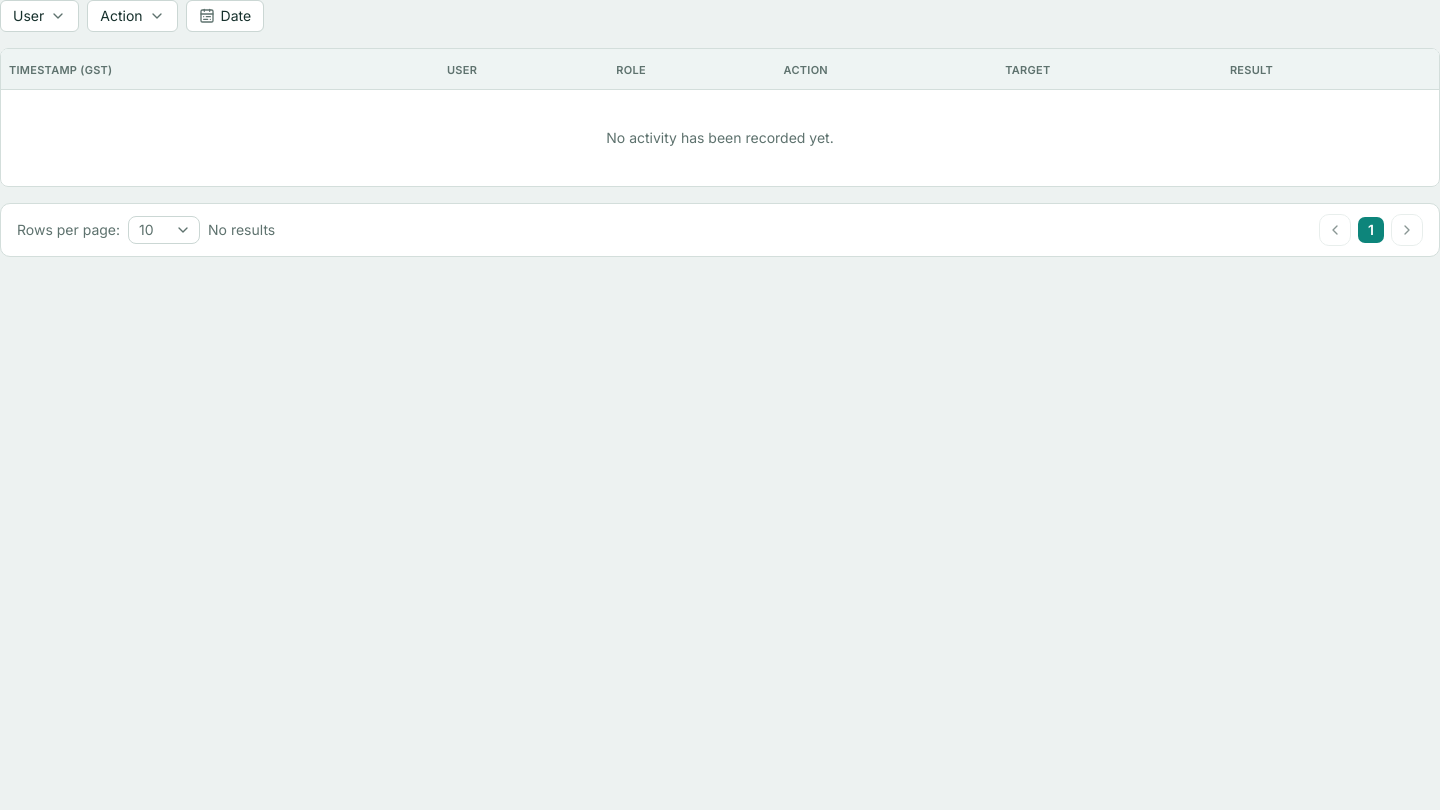
AuditTable › distinguishes a filtered empty result from an empty log
Expected: the text "No activity has been recorded yet." is shown, [1, 90, 1439, 186]
Note: The two date fields live behind the single "Date" chip.
Click the button with aria-label "Filter by date". click: {"x": 225, "y": 16}
box: [186, 0, 264, 32]
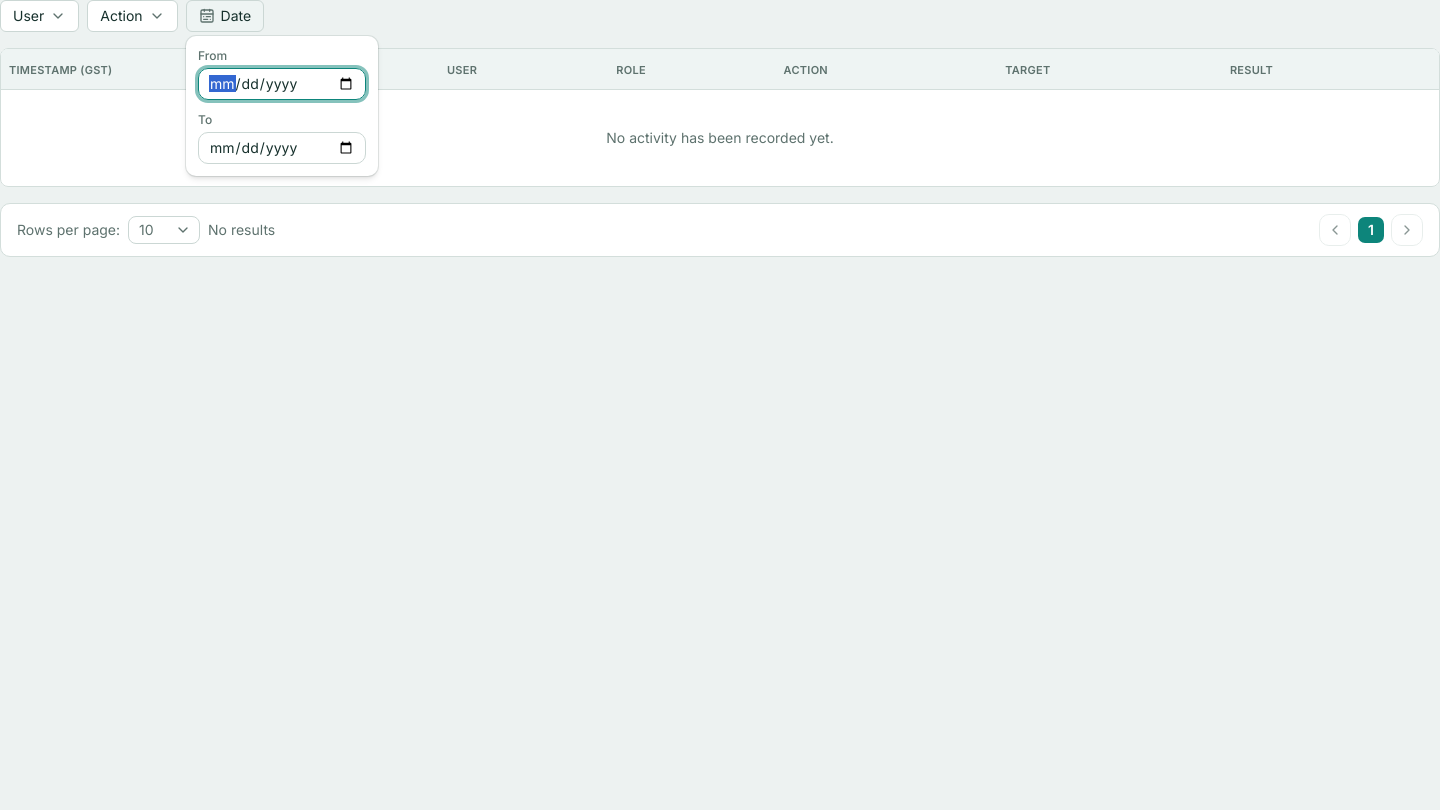
Type "2026-07-30" into the date field labelled "From". click: {"x": 282, "y": 84}
box: [198, 68, 366, 100]
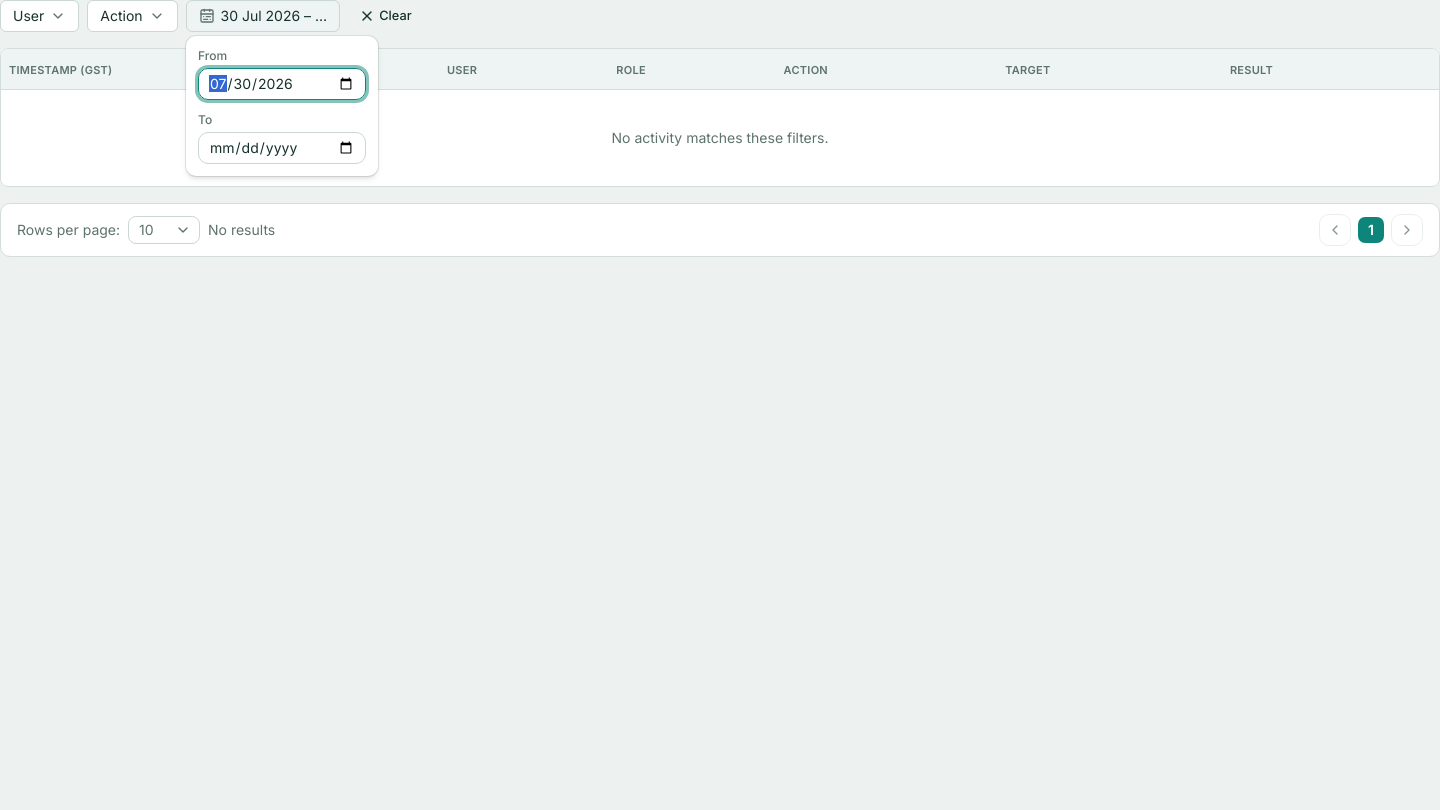
Result: the text "No activity matches these filters." is shown at [1, 90, 1439, 186]
